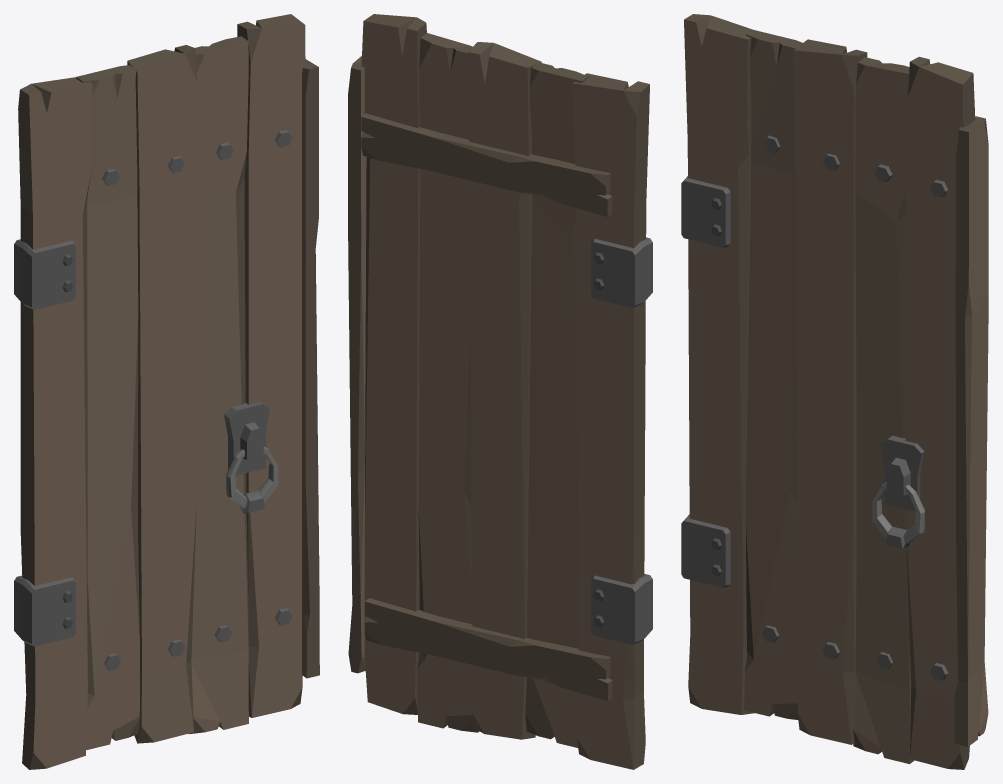
Rendered from SM_Env_DoorDouble_Flat_01.FBX.
The picture shows the model from 3 angles, left to right: view 1: azimuth 30°, elevation 25°; view 2: azimuth 150°, elevation 25°; view 3: azimuth 330°, elevation 25°; orthographic projection.
Parts seen in each view (by area): view 1: SM_Env_DoorDouble_Flat_01; view 2: SM_Env_DoorDouble_Flat_01; view 3: SM_Env_DoorDouble_Flat_01.
Boxes of the visible parts, <box> form: SM_Env_DoorDouble_Flat_01: <box>14,14,319,769</box>; SM_Env_DoorDouble_Flat_01: <box>348,14,652,769</box>; SM_Env_DoorDouble_Flat_01: <box>681,14,988,769</box>.
Size of what is drawn, in the model's own units: 115 by 18.49 by 265.
